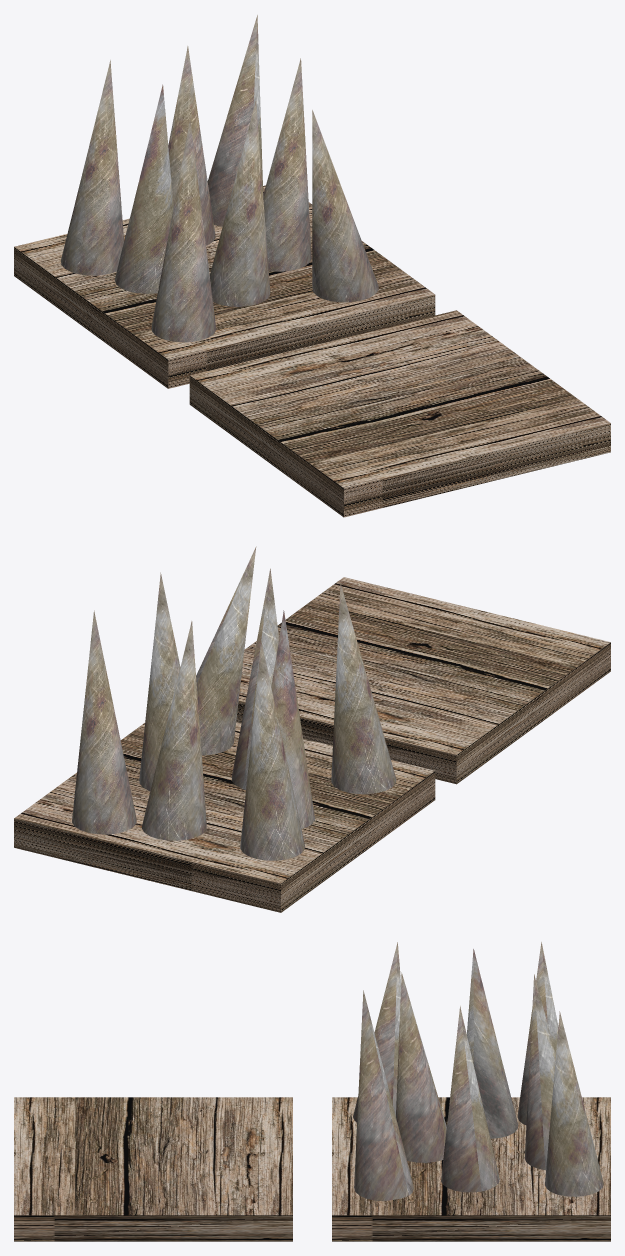
File: Trampas.dae
3 renders of one model, top to bottom at view 1: azimuth 30°, elevation 25°; view 2: azimuth 150°, elevation 25°; view 3: azimuth 270°, elevation 25°, orthographic. The views are drawn at different scales.
Visible parts, largest first — view 1: pCube5, pCube4, pCone19, pCone4, pCone3, pCone18, pCone6, pCone2, pCone7, pCone8; view 2: pCube5, pCube4, pCone7, pCone8, pCone4, pCone19, pCone18, pCone6, pCone2, pCone3; view 3: pCube5, pCube4, pCone18, pCone6, pCone7, pCone3, pCone2, pCone8, pCone19, pCone4.
Part boxes in pixels (box(x1,y1,x2,y2)): pCube5: box(189, 310, 610, 517); pCube4: box(14, 185, 435, 388); pCone19: box(151, 119, 216, 342); pCone4: box(61, 60, 123, 275); pCone3: box(209, 101, 270, 306); pCone18: box(312, 110, 378, 302); pCone6: box(263, 58, 311, 271); pCone2: box(114, 84, 173, 293); pCone7: box(207, 15, 263, 226); pCone8: box(168, 46, 215, 245); pCube5: box(236, 577, 610, 784); pCube4: box(14, 722, 435, 912); pCone7: box(72, 610, 136, 834); pCone8: box(142, 621, 206, 840); pCone4: box(240, 641, 304, 860); pCone19: box(331, 583, 396, 794); pCone18: box(196, 546, 256, 755); pCone6: box(139, 572, 203, 791); pCone2: box(271, 610, 314, 829); pCone3: box(231, 568, 279, 789); pCube5: box(14, 1097, 292, 1241); pCube4: box(332, 1097, 610, 1241); pCone18: box(354, 990, 413, 1201); pCone6: box(441, 1006, 499, 1192); pCone7: box(545, 1011, 603, 1196); pCone3: box(396, 972, 446, 1162); pCone2: box(466, 949, 518, 1138); pCone8: box(524, 974, 555, 1170); pCone19: box(353, 942, 400, 1122); pCone4: box(517, 942, 558, 1124).
Bounding box in the file's own units: 8.04 × 6.62 × 17.2.
